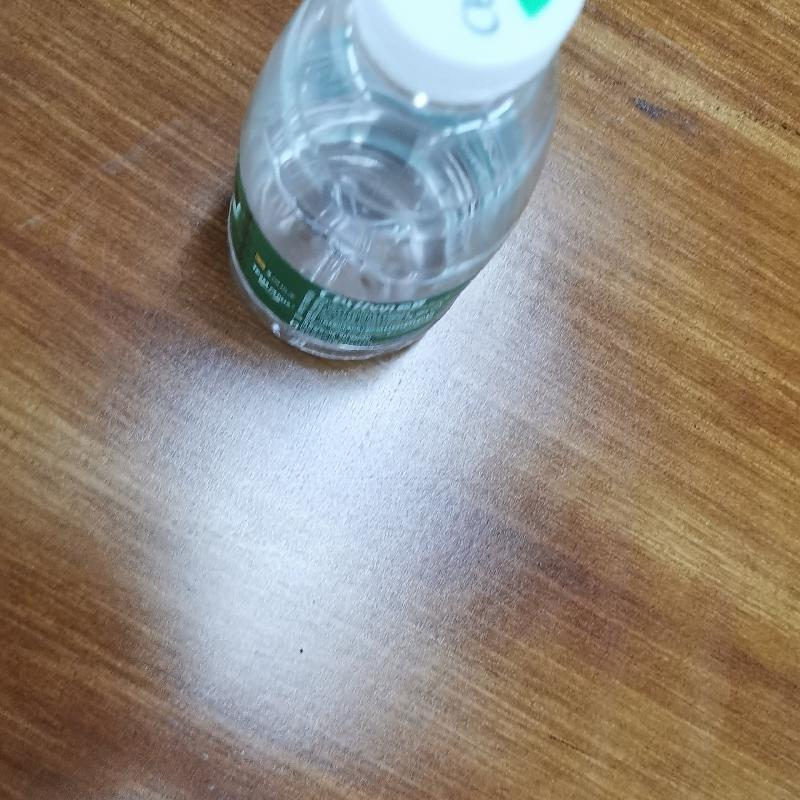bottles: (224, 1, 591, 370)
